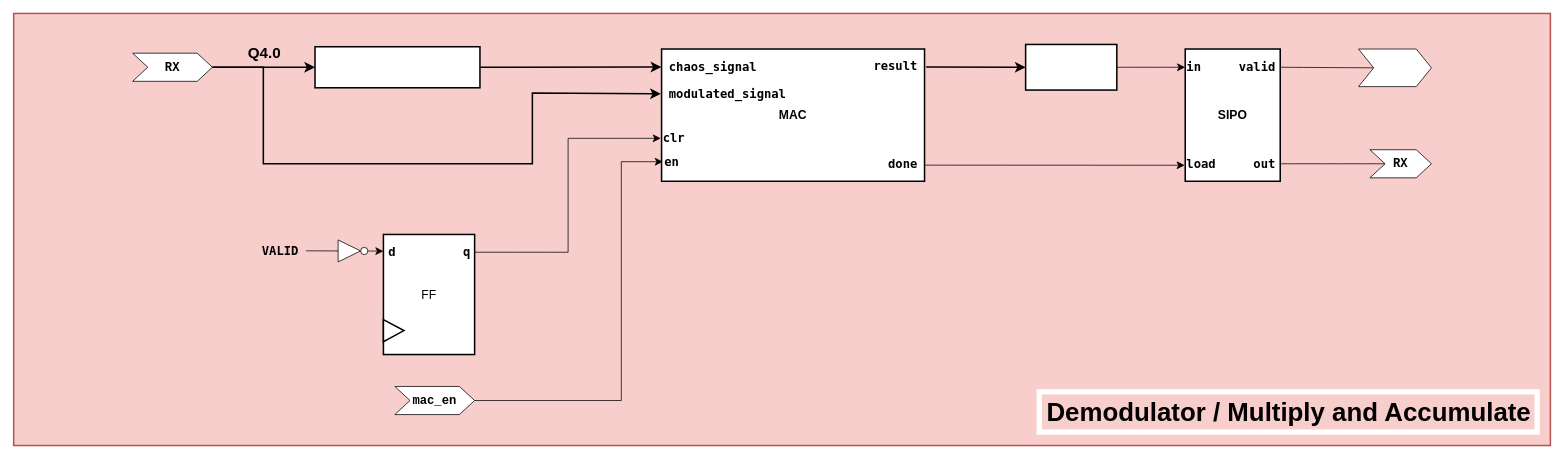
Some shapes in this 1564 by 460 pixel diagram are drawn without their labels. Here are the shapes that lost their labels. From the top down, the centre of each, then its label:
At point 397,67: "Delay by Spreading Factor".
At point 1070,66: "Threshold (Sign Bit)".
At point 1394,67: "VALID PULSE".
